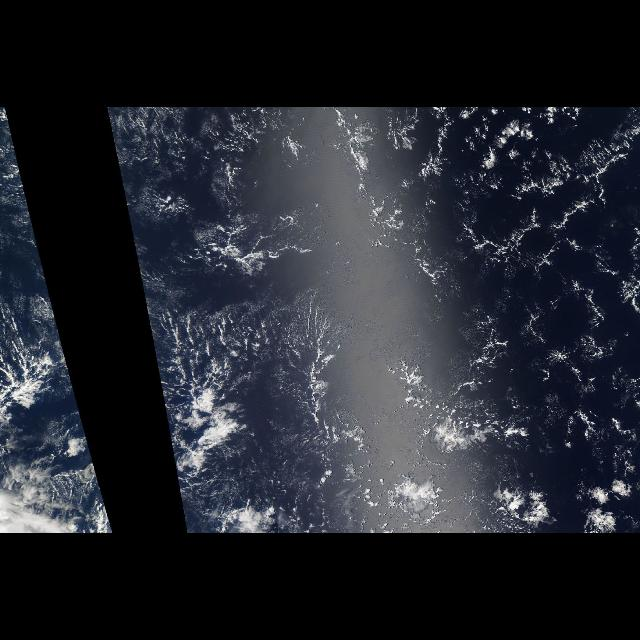Flower: (142, 294, 378, 496), (7, 294, 103, 496)
Gravel: (401, 115, 627, 469)
Sugar: (108, 110, 638, 473), (3, 114, 97, 473)
